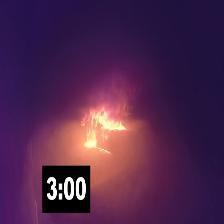fire: (75, 105, 127, 156)
